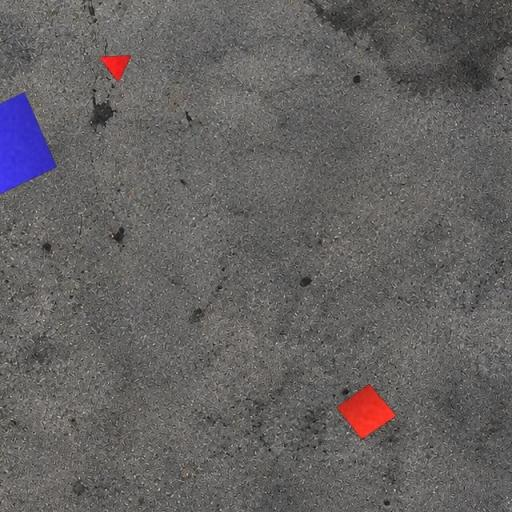BLUE_SQUARE: (0, 91, 58, 202)
RED_SQUARE: (335, 383, 398, 441)
